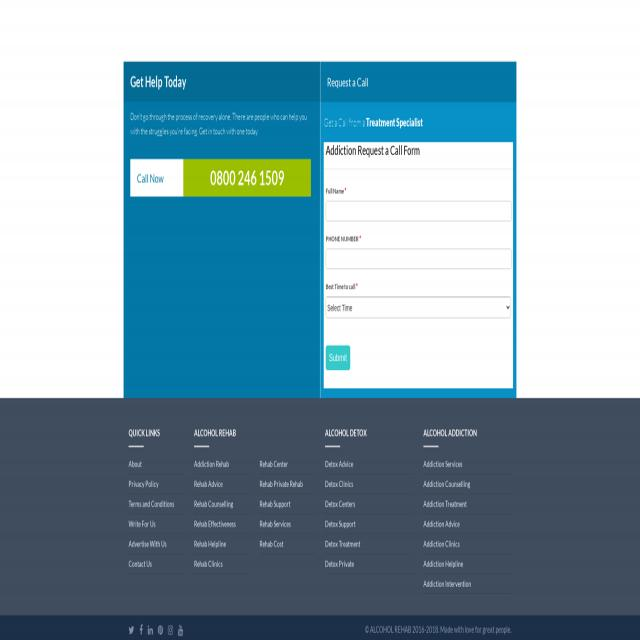button: (184, 160, 310, 196), (326, 346, 350, 370), (166, 623, 174, 638), (146, 623, 154, 636), (177, 623, 184, 637), (138, 623, 145, 636), (157, 624, 164, 637), (128, 624, 135, 636)
field: (326, 297, 511, 318), (326, 202, 511, 222), (326, 249, 511, 269)
